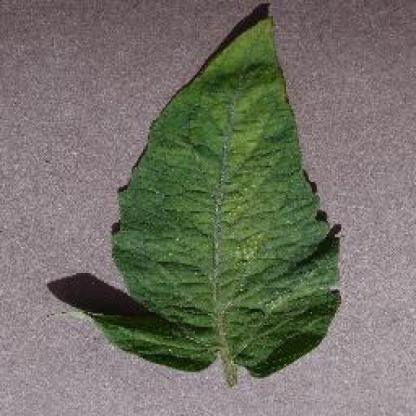Tomato_Spider_Mites: (93, 18, 341, 372)
